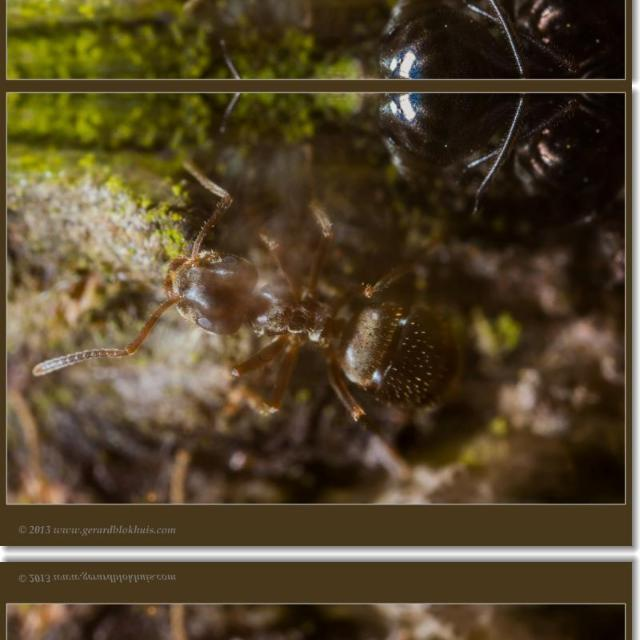Lasius: (122, 204, 460, 424)
